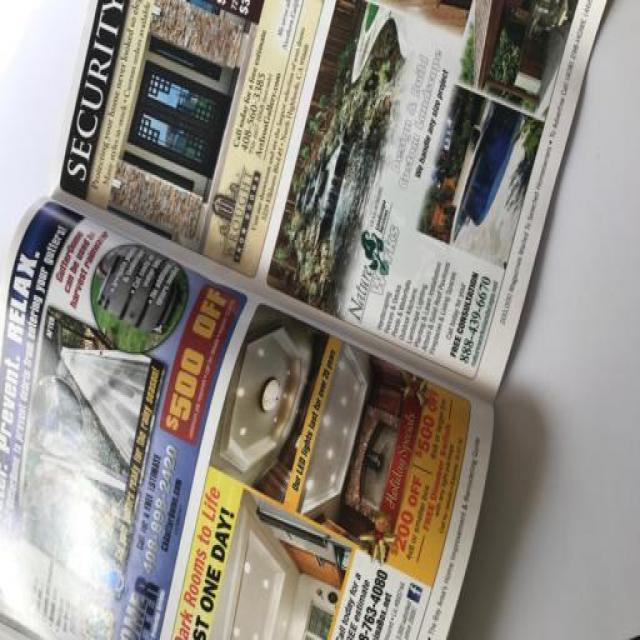paper: (6, 2, 592, 640)
